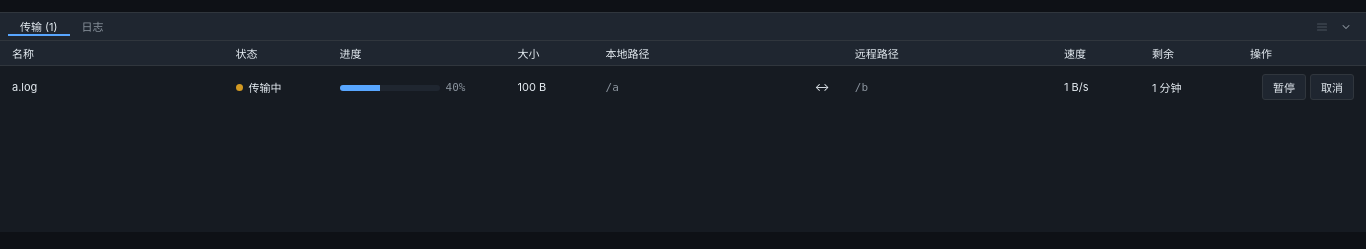
Test: TransferPanel 日志页 › 没有任何日志时显示空状态说明，不用占位文案假装有内容
The width and height of the screenshot is (1366, 249).
Click the button with test id "xfer-tab-log". click: x=93, y=26
box: [70,18,116,36]
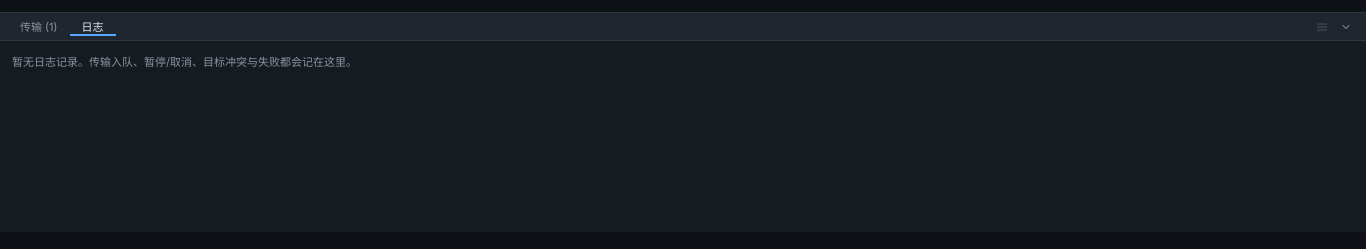
Check: the text with test id "xfer-log-empty" shows "暂无日志记录", box [12,55,357,69]
